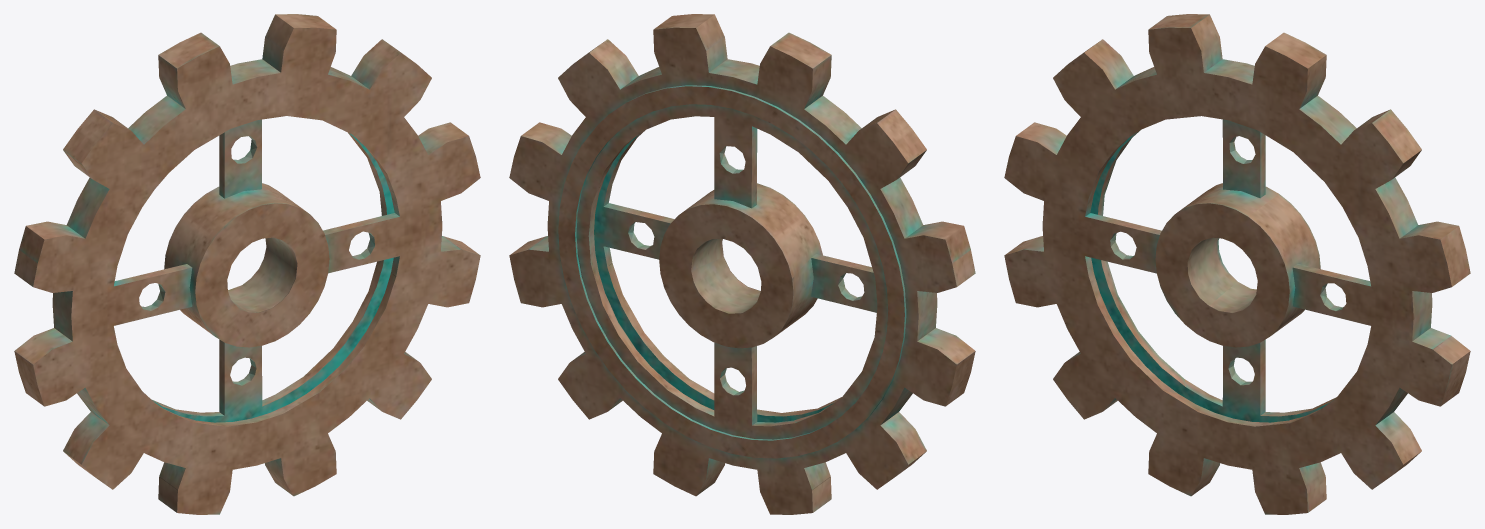
File: gear.glb
3 renders of one model, left to right at view 1: azimuth 30°, elevation 25°; view 2: azimuth 150°, elevation 25°; view 3: azimuth 330°, elevation 25°, orthographic.
Visible parts, largest first — view 1: Gear.000; view 2: Gear.000; view 3: Gear.000.
Part boxes in pixels (box(x1,y1,x2,y2)): Gear.000: box(14, 14, 480, 514); Gear.000: box(509, 14, 975, 514); Gear.000: box(1004, 14, 1470, 514).
Size of the model in its own units: 207 by 207 by 24.9.
1 material, 1 textured.
